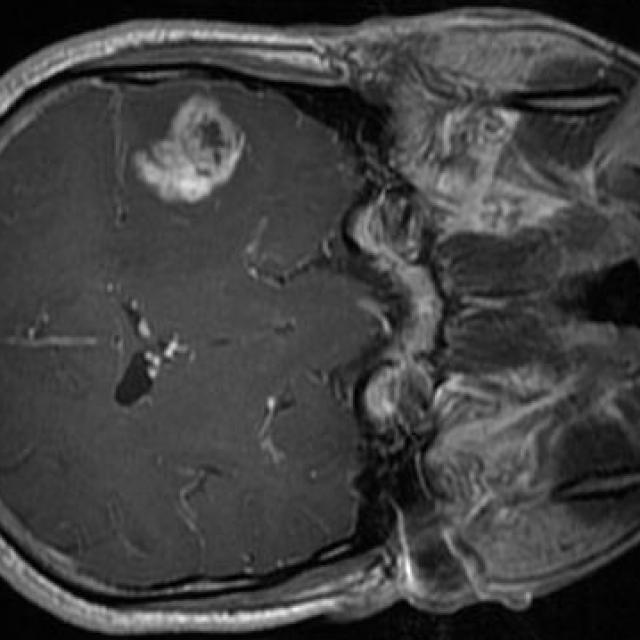glioma: (132, 96, 246, 205)
